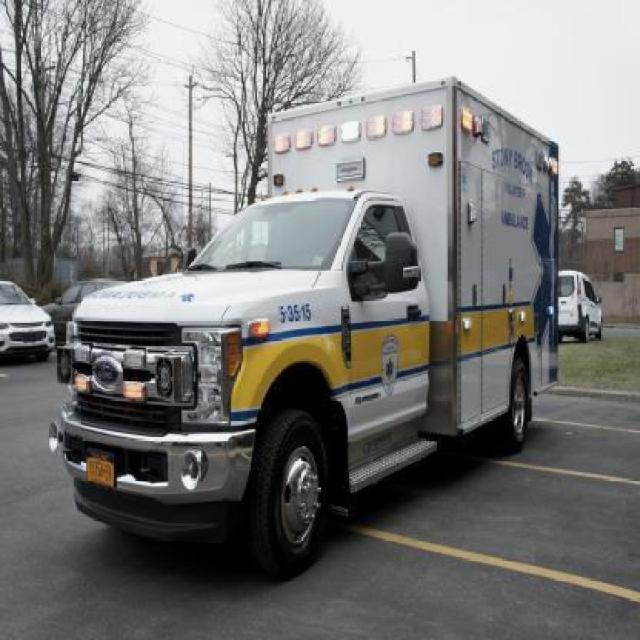Ambulance: (54, 68, 577, 546)
